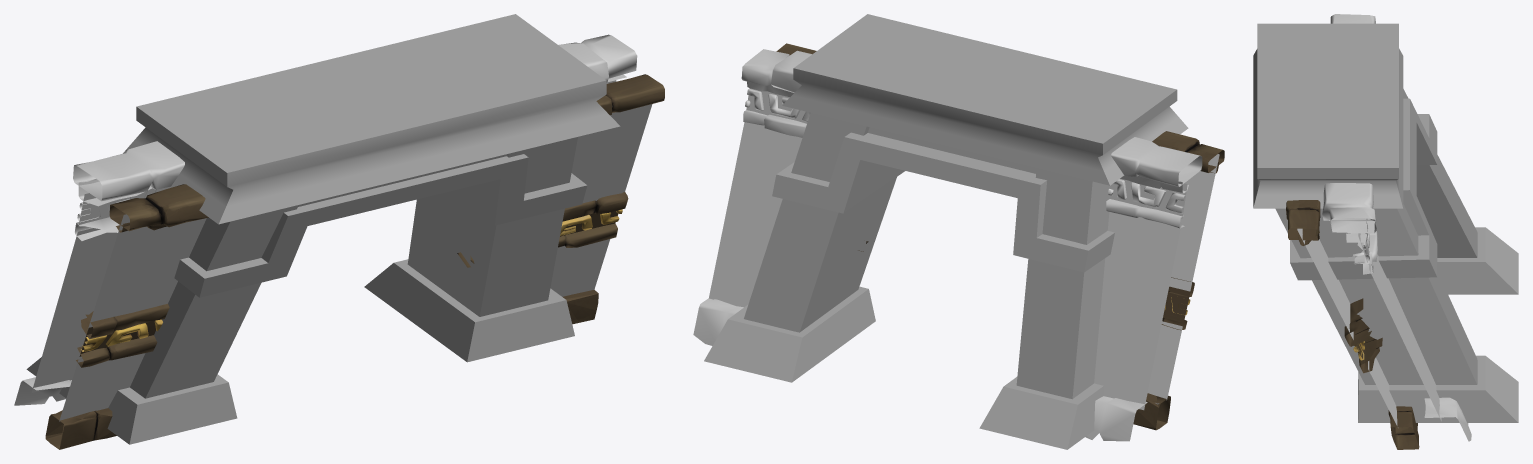
File: sm_Temple_Doorway.fbx
3 renders of one model, left to right at view 1: azimuth 30°, elevation 25°; view 2: azimuth 150°, elevation 25°; view 3: azimuth 270°, elevation 25°, orthographic. The views are drawn at different scales.
Visible parts, largest first — view 1: sm_Doorway, sm_TempleInterior_Wall_LOD00, sm_TempleExterior_LargeWall_LOD00; view 2: sm_Doorway, sm_TempleExterior_LargeWall_LOD00, sm_TempleInterior_Wall_LOD00; view 3: sm_Doorway, sm_TempleExterior_LargeWall_LOD00, sm_TempleInterior_Wall_LOD00.
Boxes of the visible parts, box(x1,y1,x2,y2) form: sm_Doorway: box(26, 14, 620, 444); sm_TempleInterior_Wall_LOD00: box(45, 74, 664, 449); sm_TempleExterior_LargeWall_LOD00: box(14, 34, 637, 405); sm_Doorway: box(704, 14, 1188, 449); sm_TempleExterior_LargeWall_LOD00: box(693, 49, 1202, 441); sm_TempleInterior_Wall_LOD00: box(776, 43, 1224, 430); sm_Doorway: box(1253, 23, 1518, 422); sm_TempleExterior_LargeWall_LOD00: box(1322, 14, 1471, 441); sm_TempleInterior_Wall_LOD00: box(1286, 200, 1419, 449).
Size of what is drawn, in the model's own units: 801 by 463 by 441.
